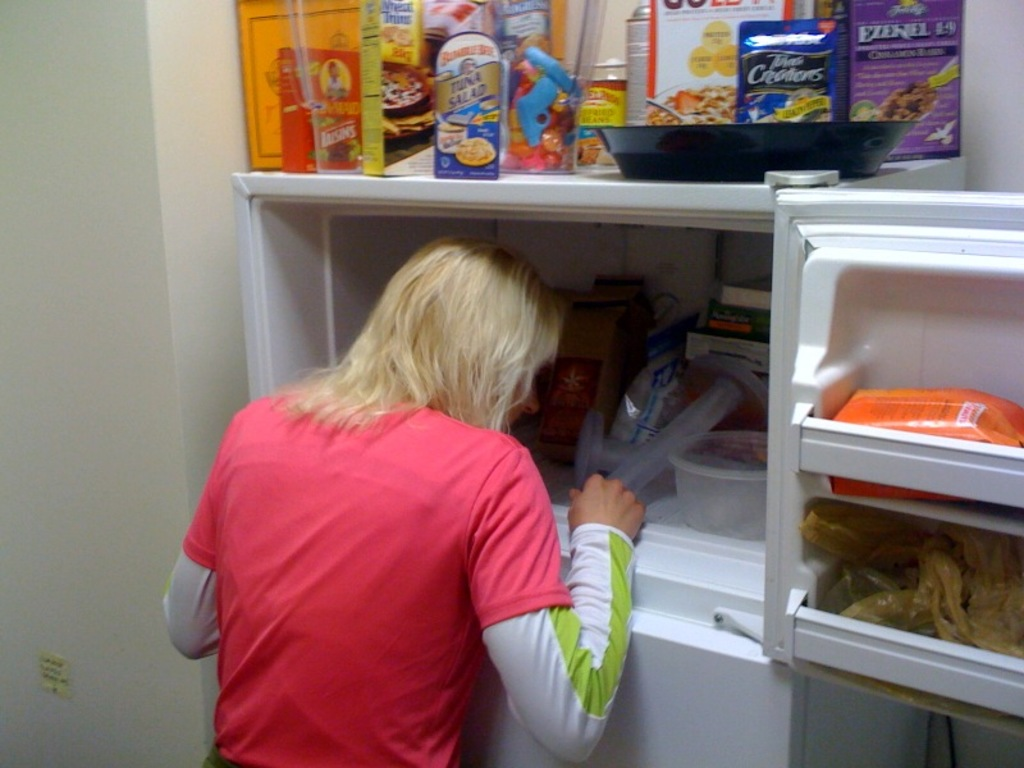refrigerator door: (777, 211, 1024, 673)
